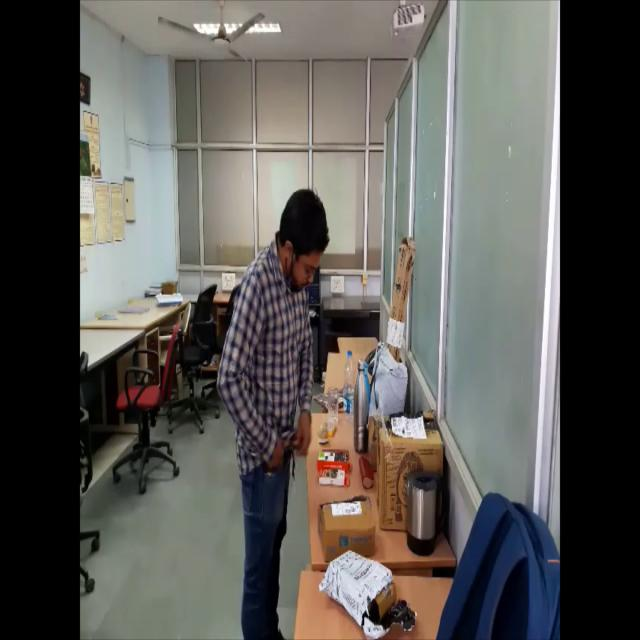shoplifting: (215, 173, 330, 640)
